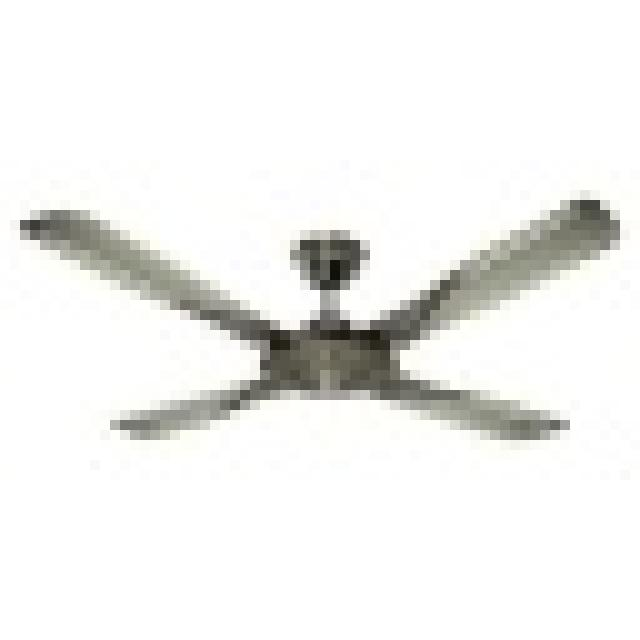Bulb: (30, 180, 640, 460)
